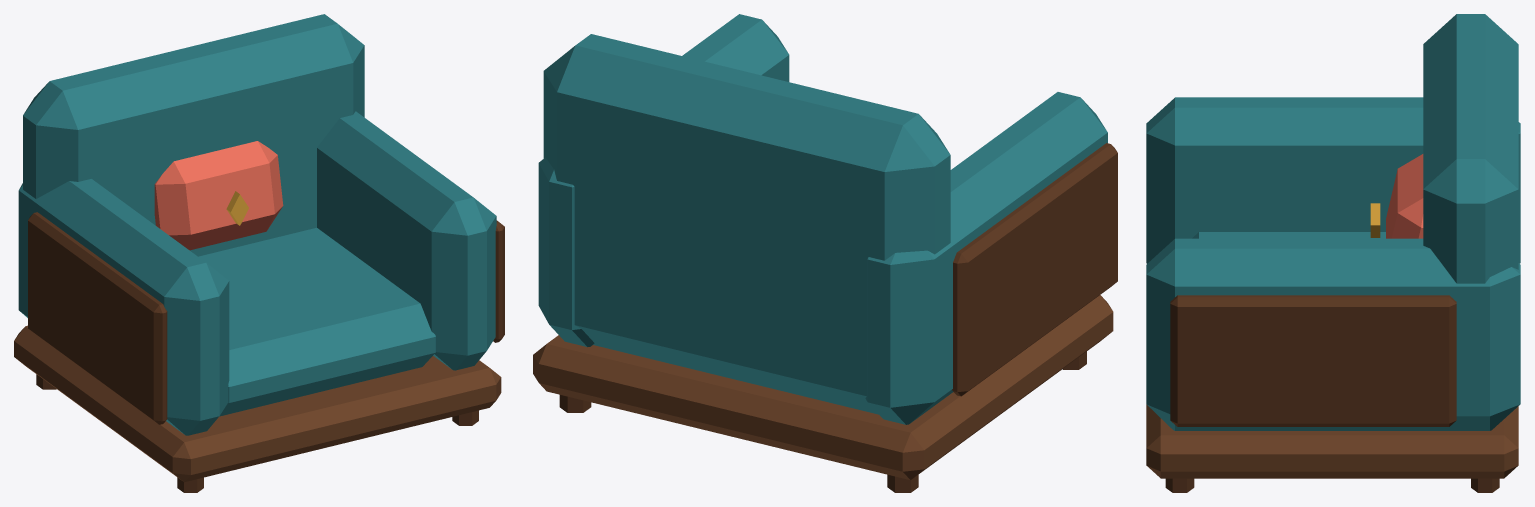
Rendered from lounge_chair.glb.
3 views of the same model, side by side, from view 1: azimuth 30°, elevation 25°; view 2: azimuth 150°, elevation 25°; view 3: azimuth 270°, elevation 25° (orthographic). The views are drawn at different scales.
Parts seen in each view (by area): view 1: lounge_chair; view 2: lounge_chair; view 3: lounge_chair.
Part boxes in pixels (x1=…): lounge_chair: x1=14, y1=14, x2=504, y2=492; lounge_chair: x1=533, y1=14, x2=1117, y2=492; lounge_chair: x1=1146, y1=14, x2=1520, y2=492.
Size of the model in its own units: 0.92 by 0.76 by 0.784.
